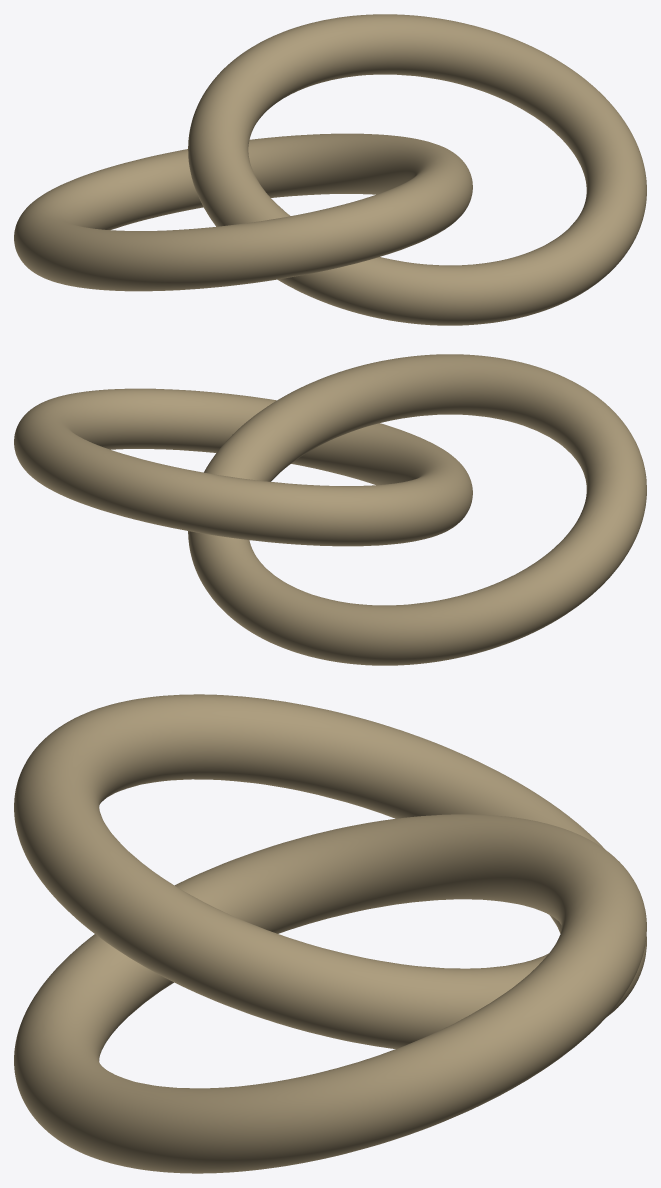
The model's file is hopf_link.glb.
The picture shows the model from 3 angles, top to bottom: view 1: azimuth 30°, elevation 25°; view 2: azimuth 150°, elevation 25°; view 3: azimuth 270°, elevation 25°; orthographic projection. The views are drawn at different scales.
Parts seen in each view (by area): view 1: hopf_link; view 2: hopf_link; view 3: hopf_link.
Part boxes in pixels (box(x1,y1,x2,y2)): hopf_link: box(14, 14, 646, 325); hopf_link: box(14, 354, 646, 665); hopf_link: box(14, 694, 646, 1173).
Bounding box in the file's own units: 3.1 × 0.7678 × 2.1.
